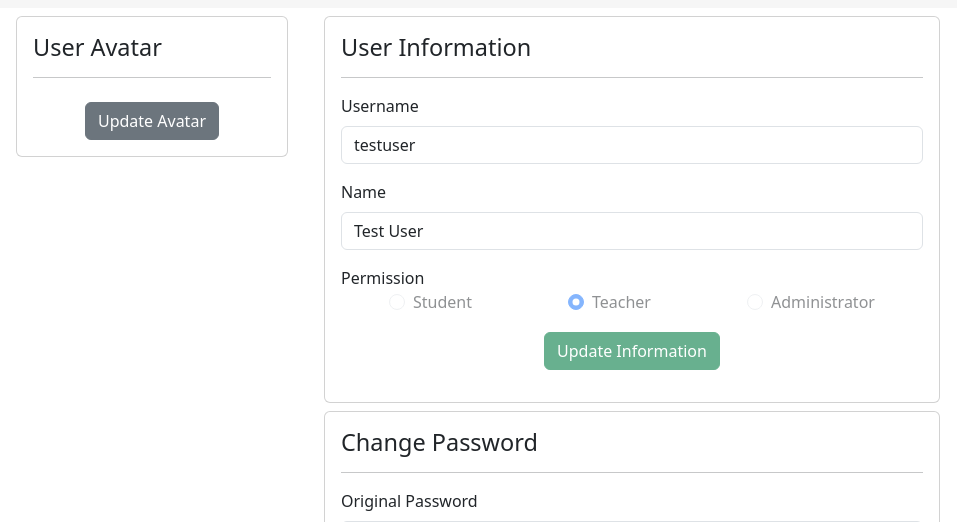
UserProfile Component › handles successful user info update
This screenshot has width=957, height=522.
(page scrolled)
Replace the text in the field labelled "Username" with "newuser": (632, 145) left=341, top=126, right=923, bottom=164
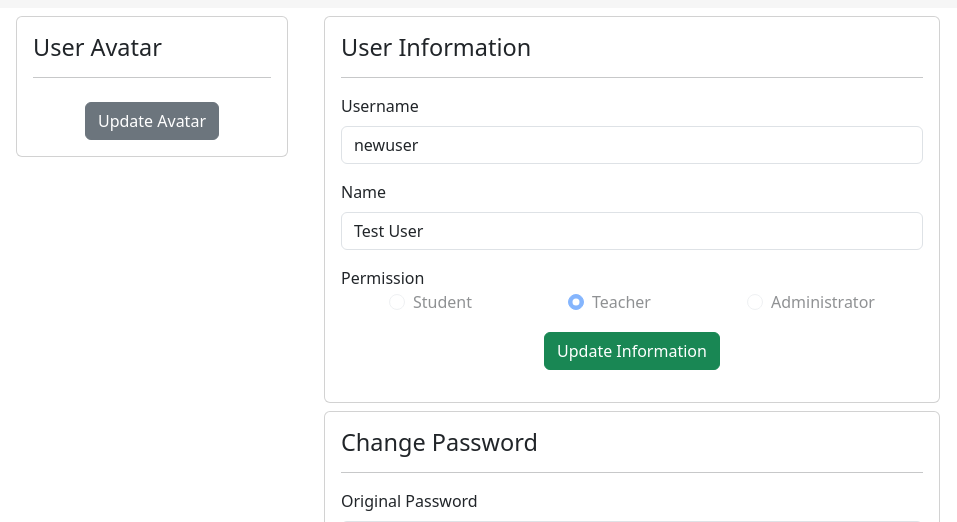
Replace the text in the field labelled "Name" with "New User": (632, 231) left=341, top=212, right=923, bottom=250
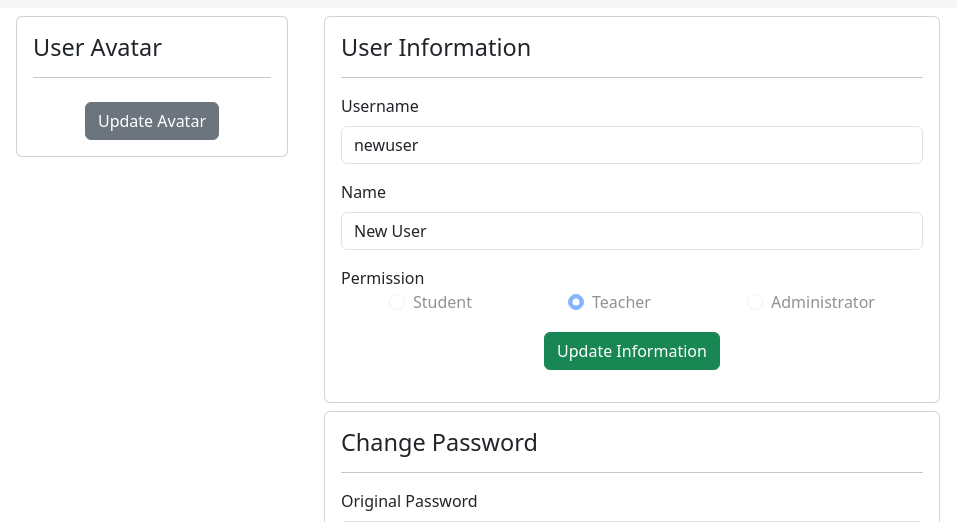
Click the button "Update Information": click(632, 351) left=544, top=332, right=720, bottom=370
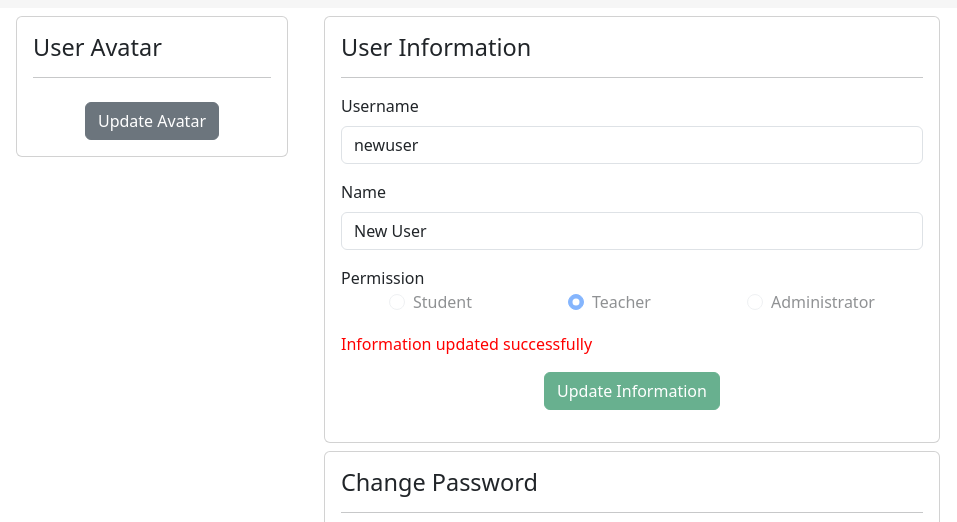
Expected: the text "Information updated successfully" is shown, left=341, top=333, right=592, bottom=355
